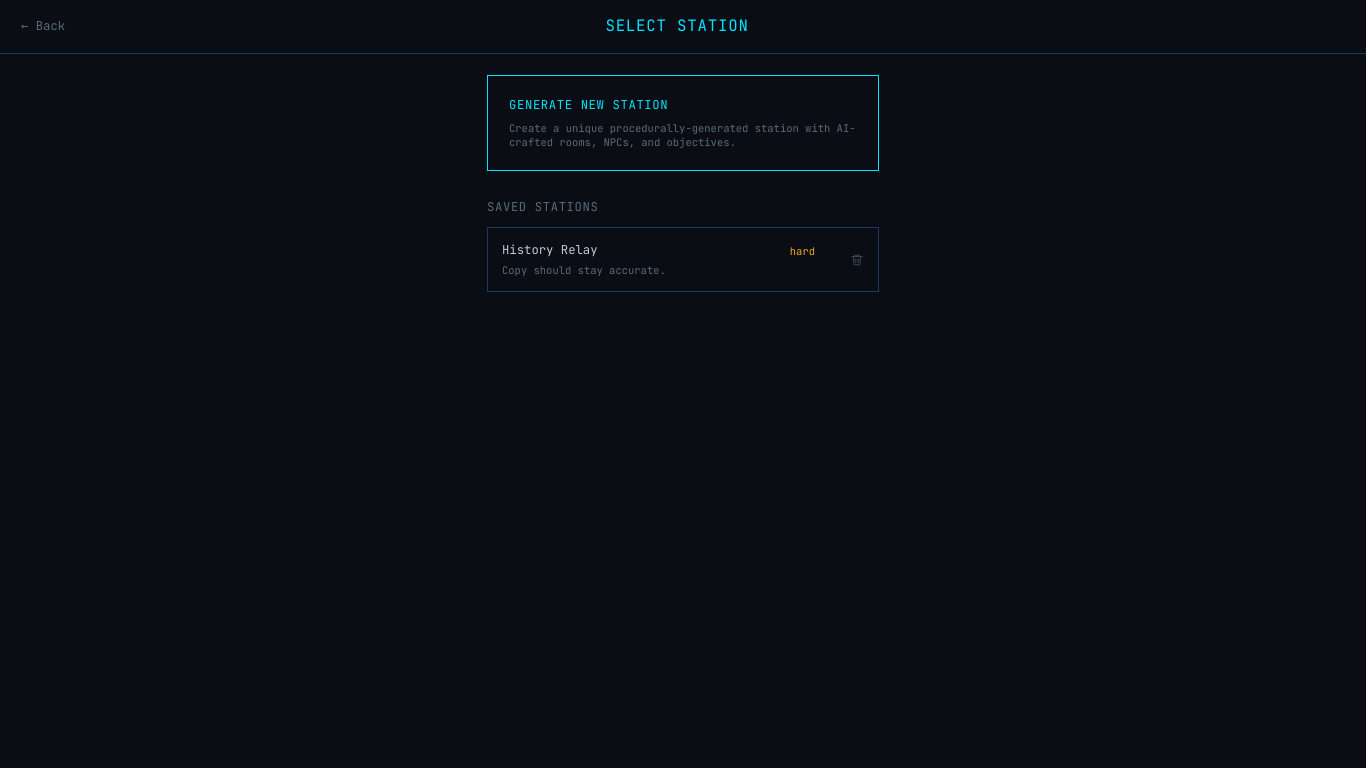
Scenario: StationPickerScreen deletion contracts › [E] keeps confirmation copy aligned with retained run history records
The image size is (1366, 768).
What coordinates should you click on to do the following:
click the button named "delete history relay"
I would click on:
 (857, 260)
Its box is [836,228,878,291].
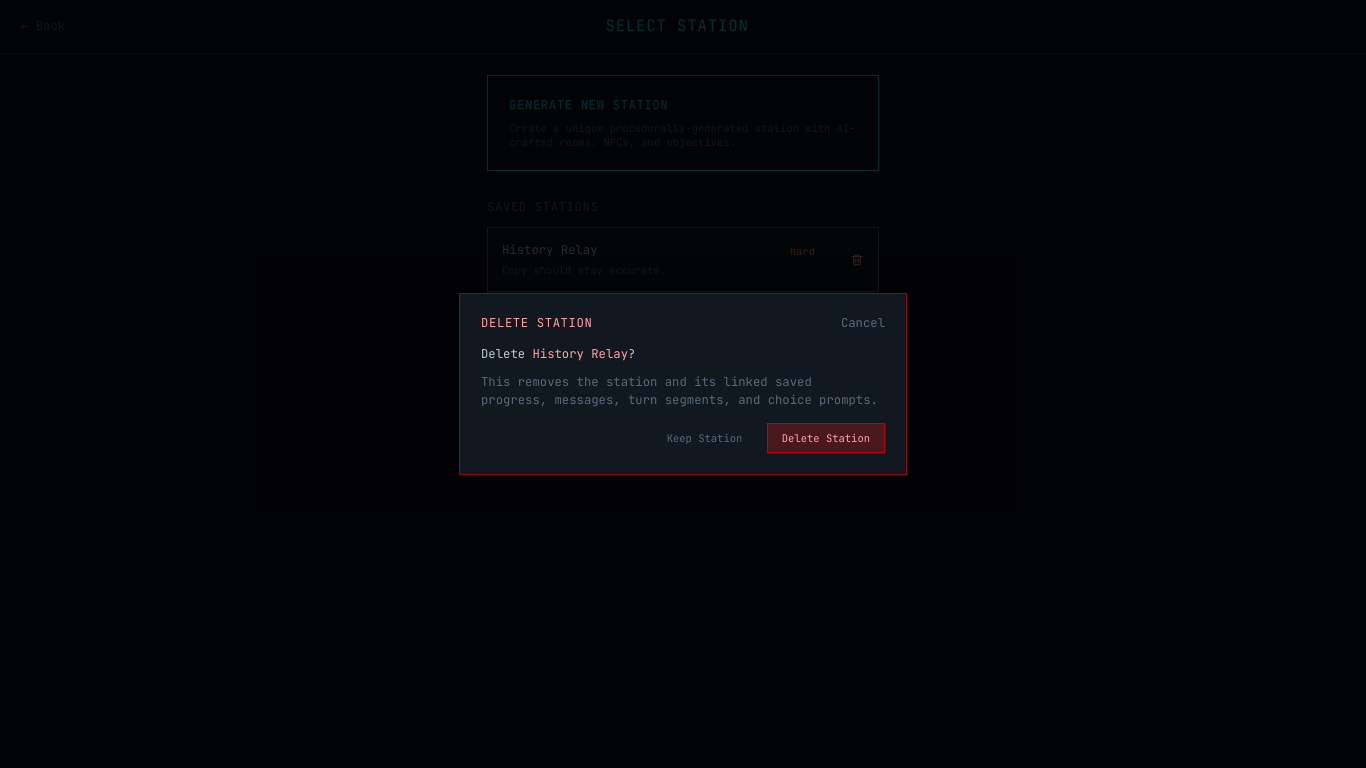
Now the text "This removes the station and its linked saved progress, messages, turn segments, and choice prompts." is shown, box [481,374,878,408]
